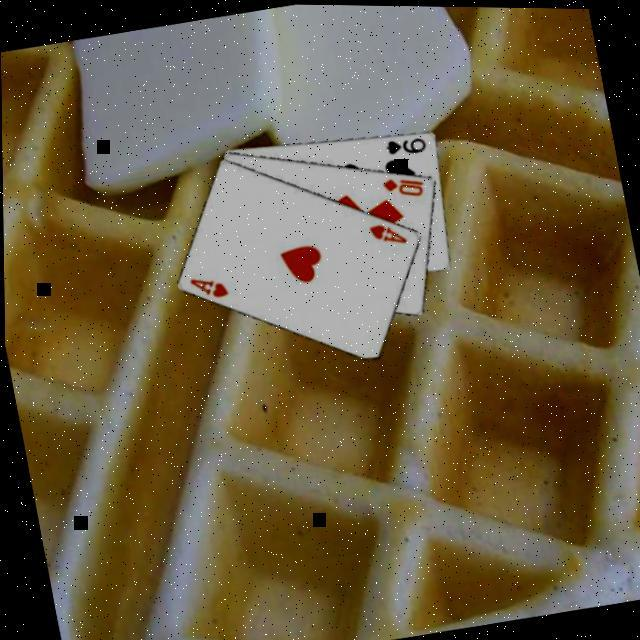10D: (377, 166, 427, 202)
9S: (380, 128, 428, 158)
AH: (184, 266, 230, 304), (364, 213, 408, 250)
